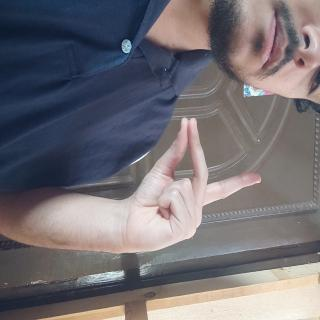TAA: (87, 78, 197, 270)
